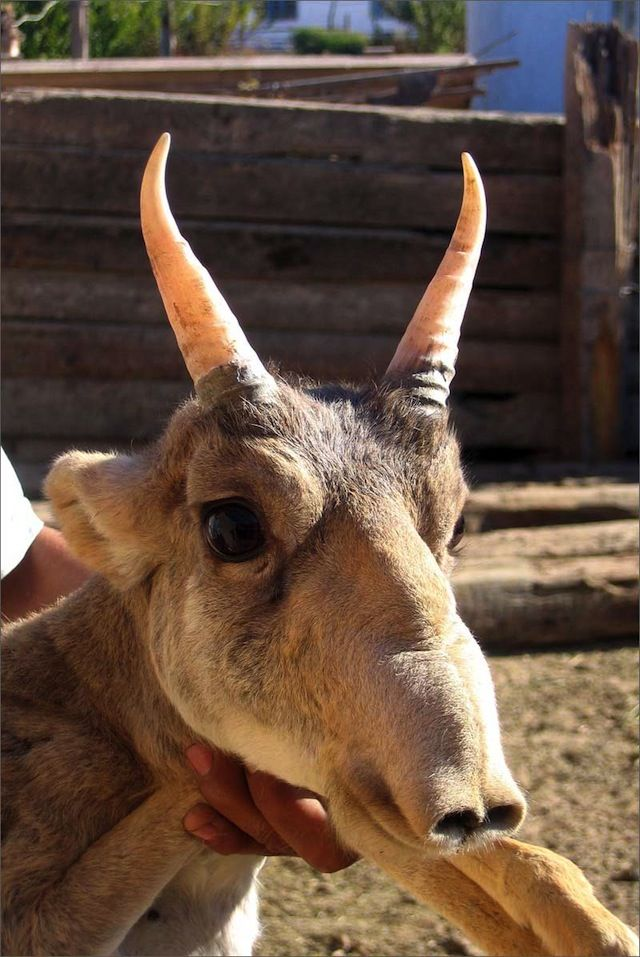saiga: (13, 127, 536, 957)
